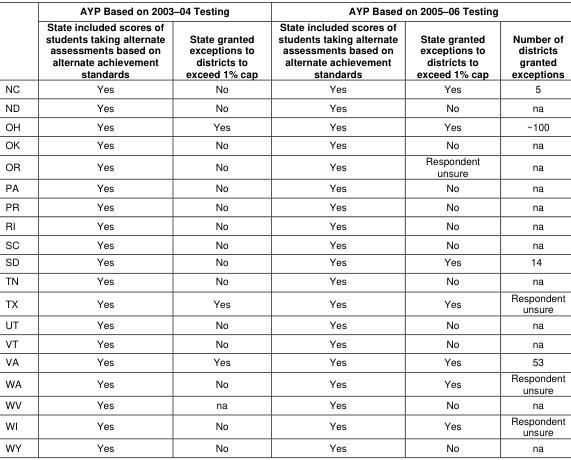table: (4, 3, 564, 453)
table column: (32, 3, 174, 453), (267, 3, 406, 453), (174, 3, 267, 453), (406, 3, 498, 453), (498, 3, 564, 453), (4, 3, 32, 453)
table column header: (4, 3, 564, 80)
table row: (4, 18, 564, 80), (4, 288, 564, 316), (4, 152, 564, 179), (4, 369, 564, 396), (4, 412, 564, 439), (4, 97, 564, 116), (4, 116, 564, 135), (4, 196, 564, 215), (4, 215, 564, 234), (4, 333, 564, 352), (4, 234, 564, 252), (4, 252, 564, 270), (4, 270, 564, 288), (4, 80, 564, 97), (4, 135, 564, 152), (4, 179, 564, 196), (4, 316, 564, 333), (4, 352, 564, 369), (4, 396, 564, 412), (4, 3, 564, 18), (4, 439, 564, 453)
table spanning cell: (267, 3, 564, 18), (32, 3, 267, 18)
